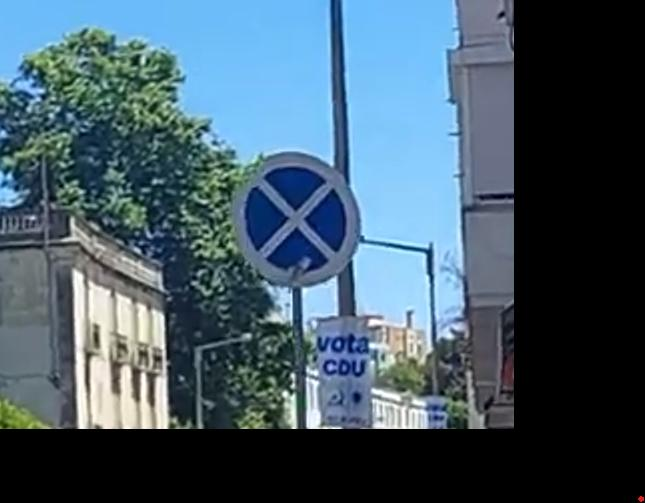Paragem e estacionamento proibidos: (228, 146, 366, 295)
